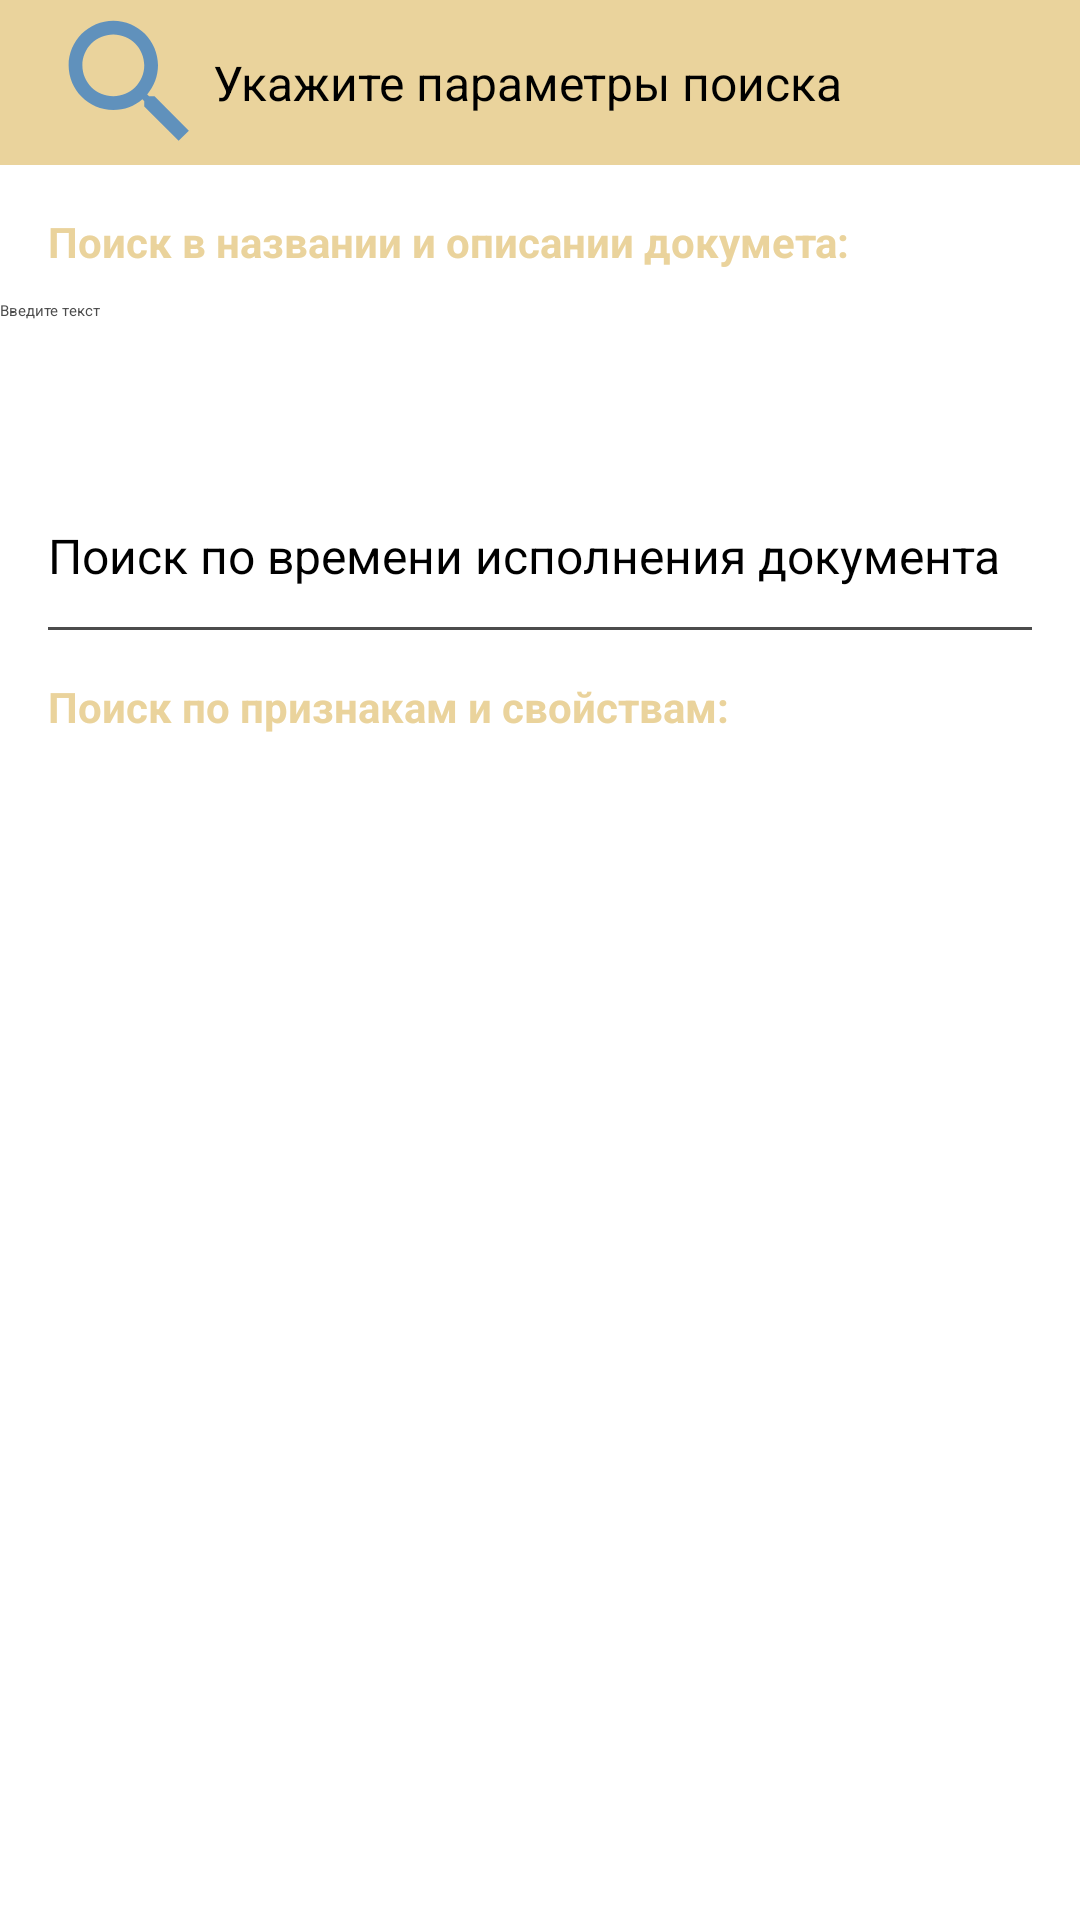

Screen size 1080 x 1920. Icon name, then its center in pixels as point (x, y):
search: point (128, 80)
